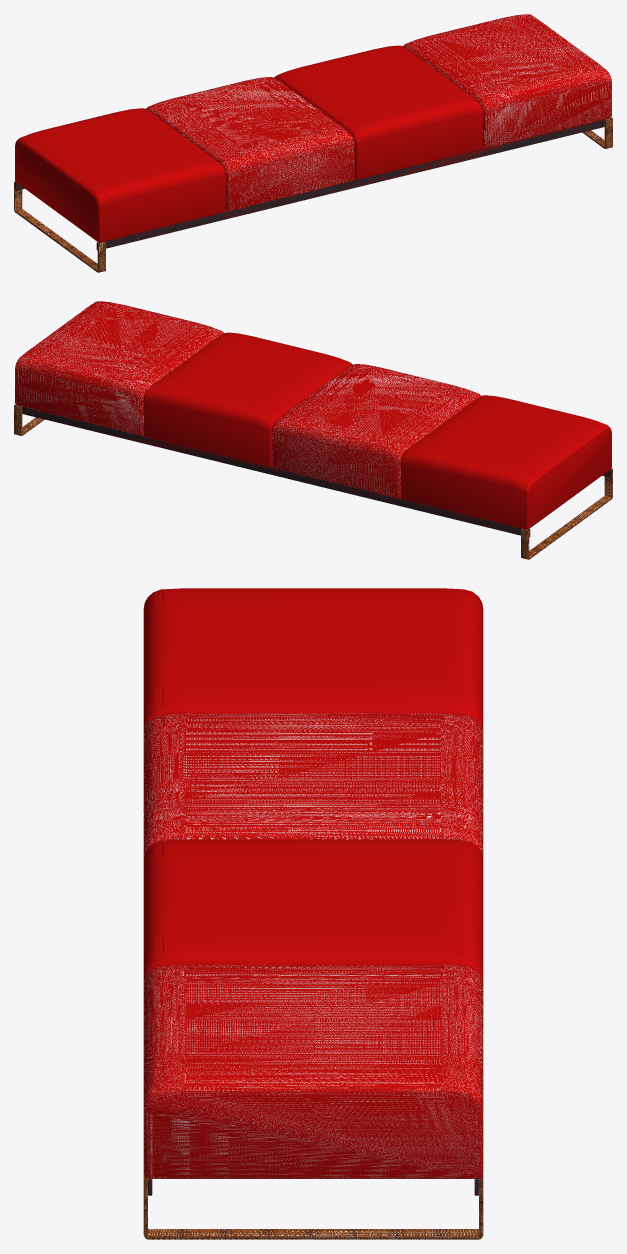
3 views of the same model, one above another, from view 1: azimuth 30°, elevation 25°; view 2: azimuth 150°, elevation 25°; view 3: azimuth 270°, elevation 25° (orthographic). The views are drawn at different scales.
Visible parts, largest first — view 1: mesh7_mesh7-geometry, mesh5_mesh5-geometry, mesh6_mesh6-geometry, mesh4_mesh4-geometry, mesh1_mesh1-geometry, mesh3_mesh3-geometry, mesh2_mesh2-geometry; view 2: mesh7_mesh7-geometry, mesh5_mesh5-geometry, mesh6_mesh6-geometry, mesh4_mesh4-geometry, mesh1_mesh1-geometry, mesh3_mesh3-geometry, mesh2_mesh2-geometry; view 3: mesh6_mesh6-geometry, mesh4_mesh4-geometry, mesh5_mesh5-geometry, mesh7_mesh7-geometry, mesh2_mesh2-geometry.
Boxes of the visible parts, <box> form: mesh7_mesh7-geometry: <box>15,108,226,242</box>; mesh5_mesh5-geometry: <box>274,45,483,179</box>; mesh6_mesh6-geometry: <box>403,14,611,148</box>; mesh4_mesh4-geometry: <box>146,77,354,211</box>; mesh1_mesh1-geometry: <box>15,119,604,250</box>; mesh3_mesh3-geometry: <box>14,181,105,272</box>; mesh2_mesh2-geometry: <box>582,117,612,148</box>; mesh7_mesh7-geometry: <box>400,395,611,529</box>; mesh5_mesh5-geometry: <box>143,332,352,466</box>; mesh6_mesh6-geometry: <box>15,301,223,435</box>; mesh4_mesh4-geometry: <box>272,364,480,498</box>; mesh1_mesh1-geometry: <box>22,406,611,537</box>; mesh3_mesh3-geometry: <box>521,468,612,559</box>; mesh2_mesh2-geometry: <box>14,404,44,435</box>; mesh6_mesh6-geometry: <box>143,964,483,1178</box>; mesh4_mesh4-geometry: <box>143,713,483,858</box>; mesh5_mesh5-geometry: <box>143,839,483,984</box>; mesh7_mesh7-geometry: <box>143,588,483,733</box>; mesh2_mesh2-geometry: <box>143,1174,483,1239</box>.
Size of the model in its own units: 0.9521 by 0.1394 by 0.272.
